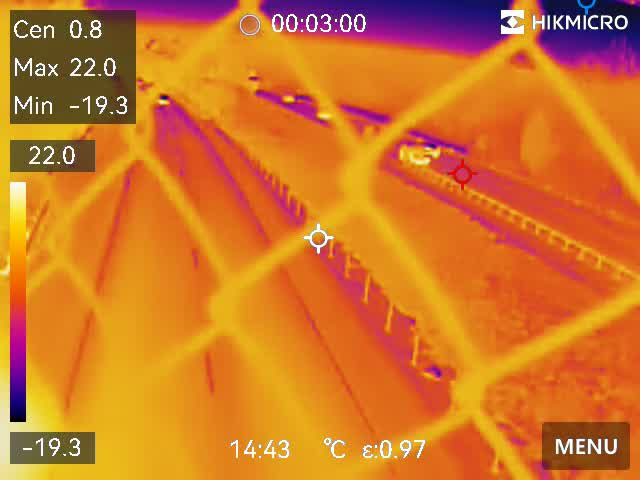vehicle: (395, 143, 431, 170), (311, 108, 339, 125), (279, 91, 298, 107)
